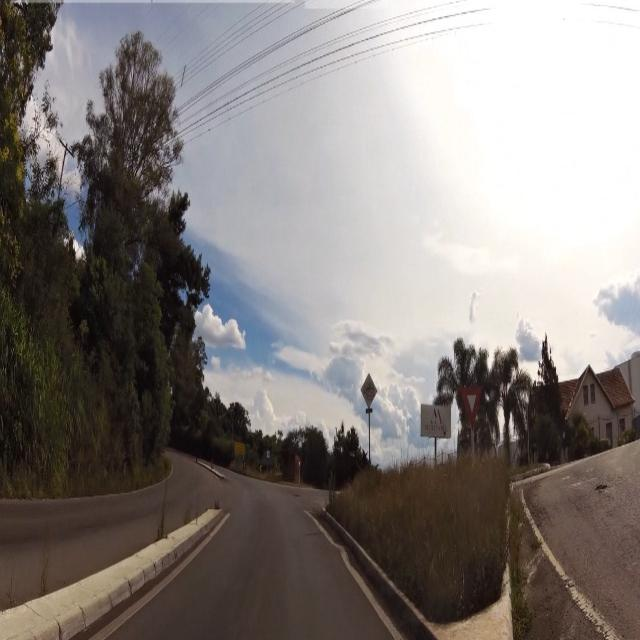R-2: (455, 371, 490, 429)
